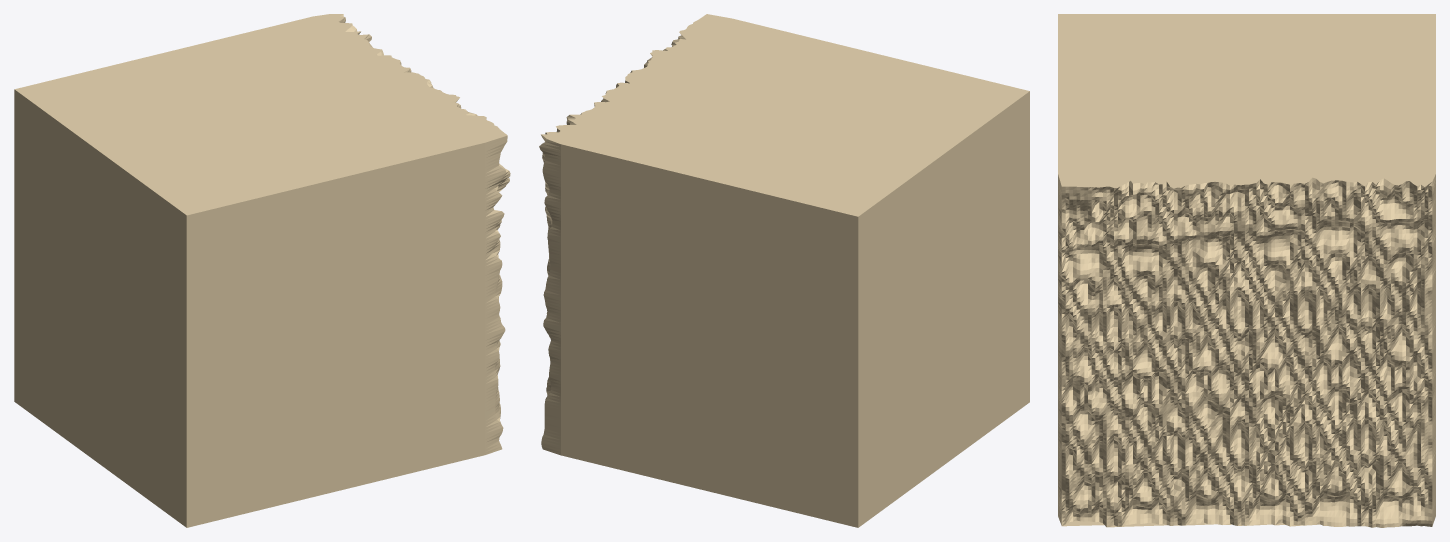
Rendered from top9.png.obj.
3 views of the same model, side by side, from view 1: azimuth 30°, elevation 25°; view 2: azimuth 150°, elevation 25°; view 3: azimuth 270°, elevation 25° (orthographic). The views are drawn at different scales.
Visible parts, largest first — view 1: Cube; view 2: Cube; view 3: Cube.
Boxes of the visible parts, x1,y1,x2,y2 form: Cube: [14, 14, 510, 527]; Cube: [539, 14, 1029, 527]; Cube: [1058, 14, 1435, 527].
Size of the model in its own units: 1.1 by 1 by 1.
